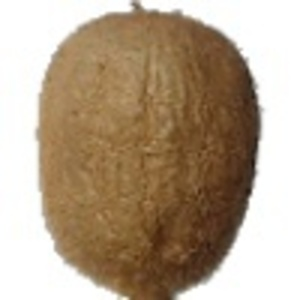kiwi: (33, 1, 262, 300)
